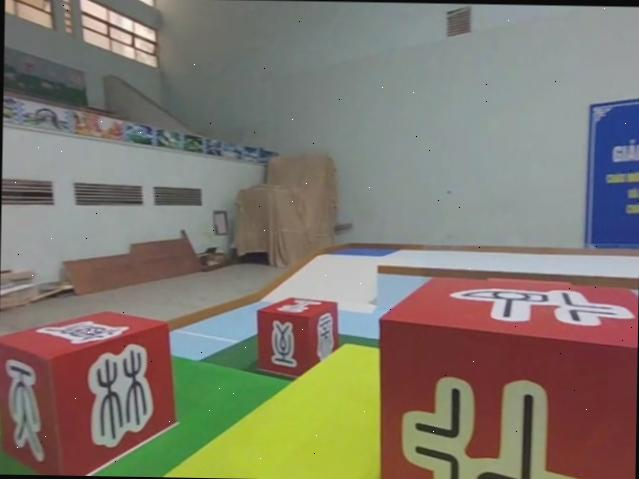R2 Fake: (0, 304, 180, 476), (254, 293, 342, 379)
R2 Real: (372, 270, 638, 479)
